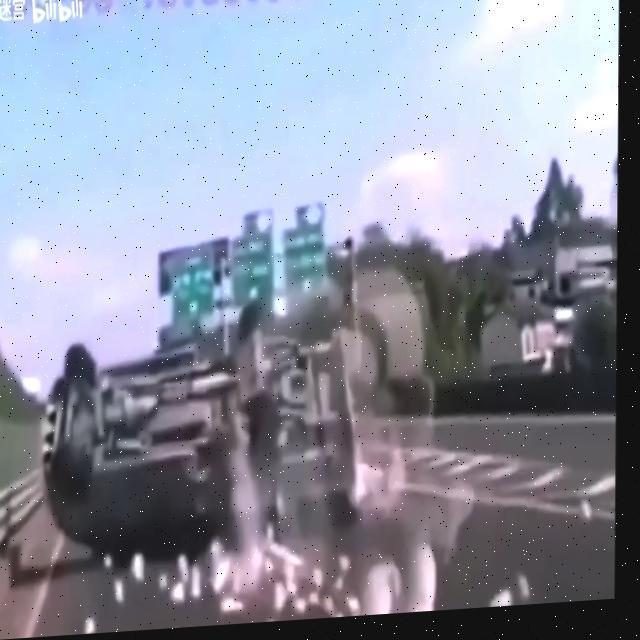single accident: (17, 265, 478, 622)
